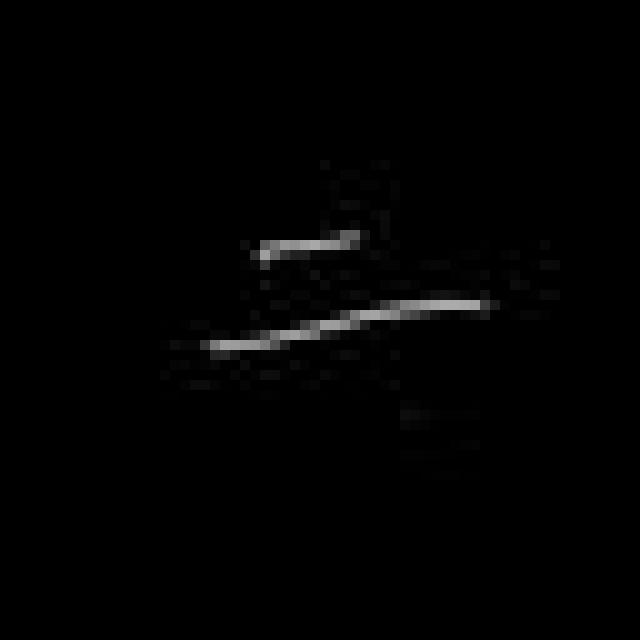2 -two-: (196, 220, 496, 367)
